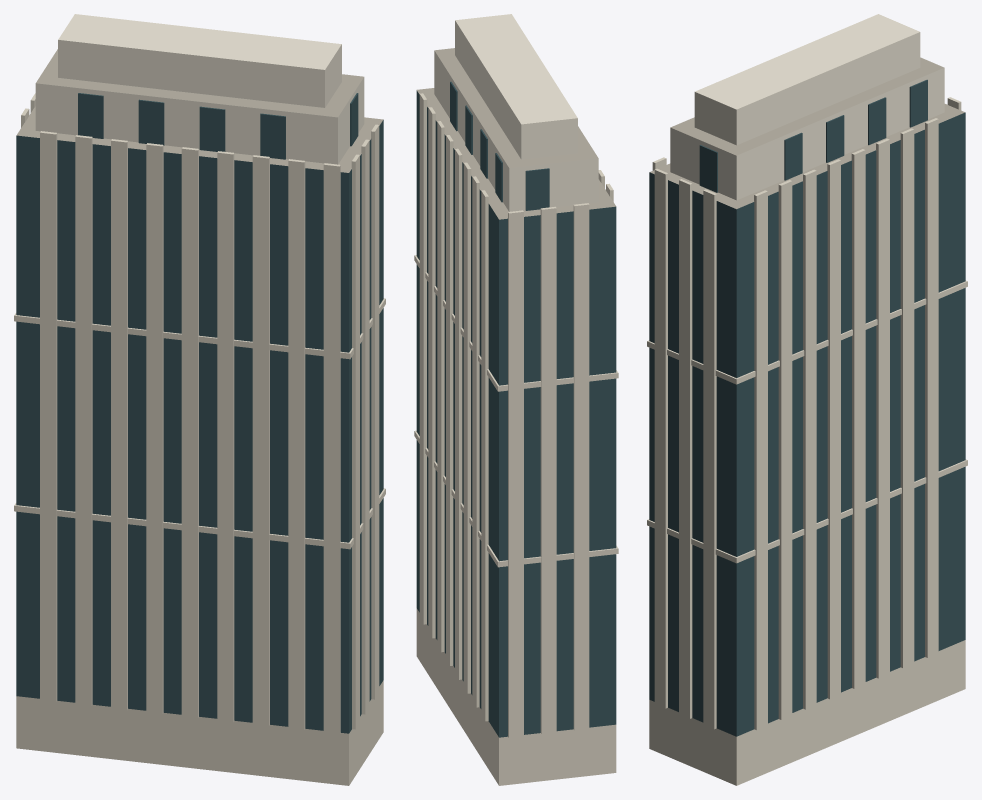
The model's file is turnberry_place_w134677417.glb.
3 views of the same model, side by side, from view 1: azimuth 30°, elevation 25°; view 2: azimuth 150°, elevation 25°; view 3: azimuth 270°, elevation 25° (orthographic). The views are drawn at different scales.
Parts seen in each view (by area): view 1: Tower; view 2: Tower; view 3: Tower.
Boxes of the visible parts, bbox=[...] form: Tower: bbox=[14, 14, 385, 785]; Tower: bbox=[414, 14, 618, 785]; Tower: bbox=[647, 14, 967, 785].
Bounding box in the file's own units: 65.26 × 147 × 65.06.
